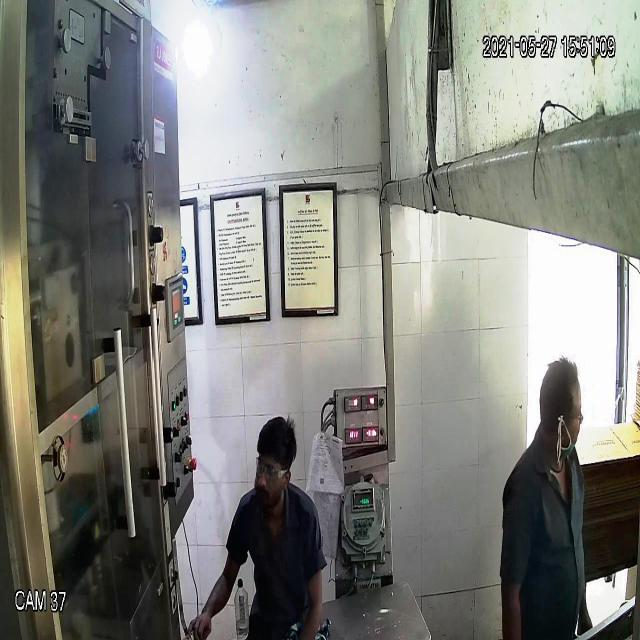glasses: (251, 449, 293, 484)
